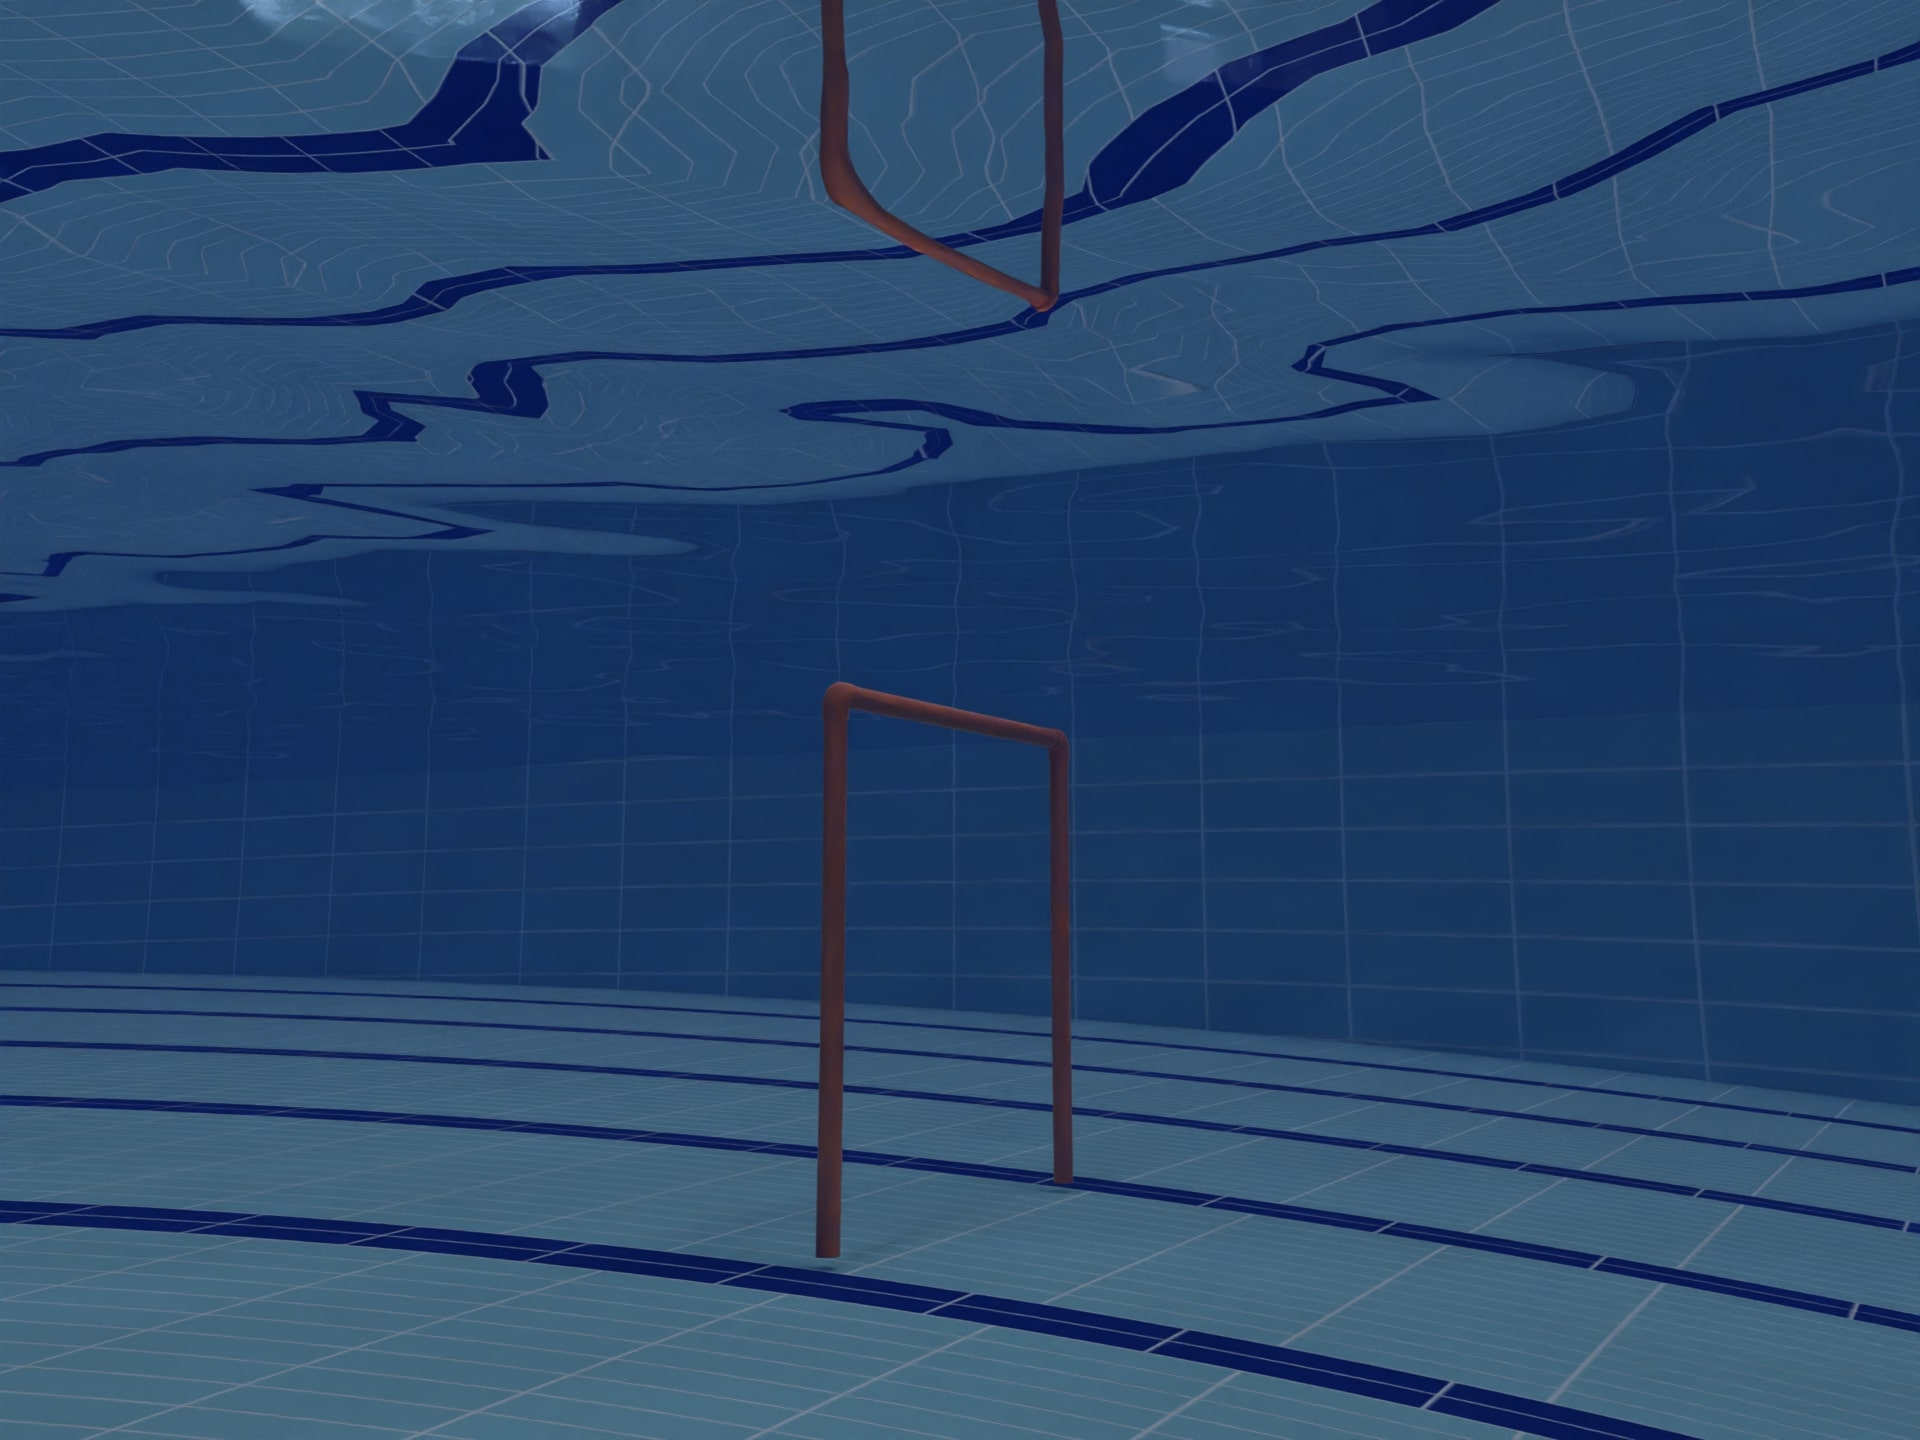gate: (721, 619, 1141, 1290)
